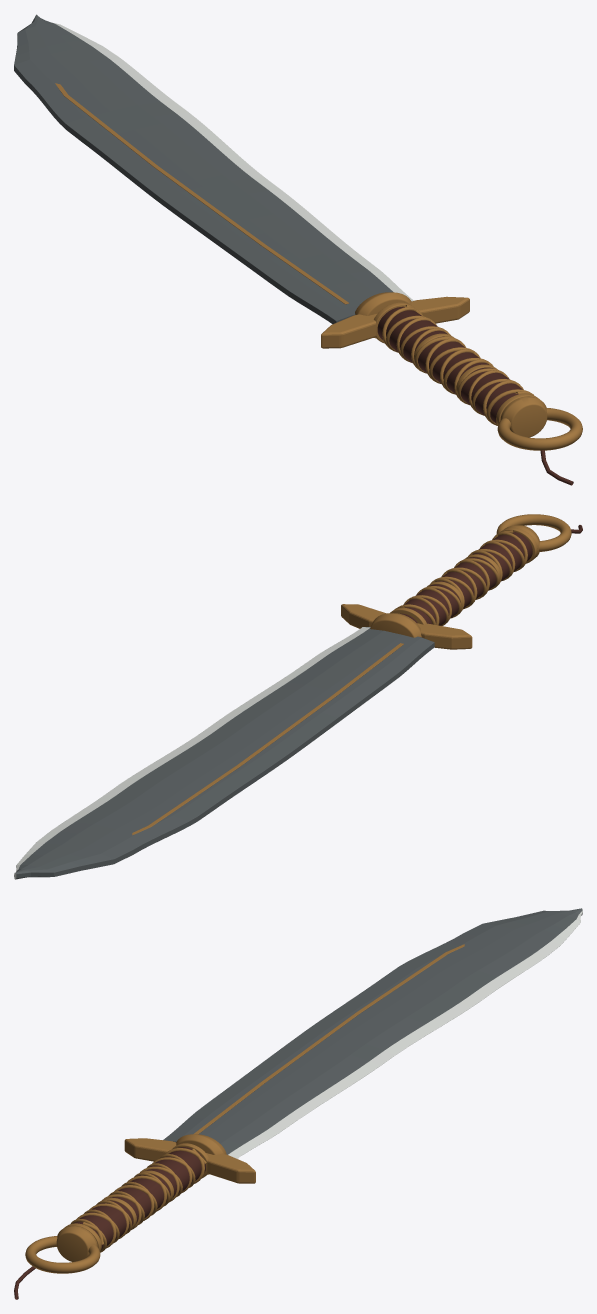
Rendered from zhanma_dao.glb.
The picture shows the model from 3 angles, top to bottom: view 1: azimuth 30°, elevation 25°; view 2: azimuth 150°, elevation 25°; view 3: azimuth 330°, elevation 25°; orthographic projection. The views are drawn at different scales.
Visible parts, largest first — view 1: ZhanmaDaoBlade, ZhanmaGripCore, ZhanmaWingGuard, ZhanmaWrapA, ZhanmaWrapB, ZhanmaRingPommel, ZhanmaFullerLine, ZhanmaPommelNeck, ZhanmaBladeCollar; view 2: ZhanmaDaoBlade, ZhanmaGripCore, ZhanmaWingGuard, ZhanmaWrapB, ZhanmaWrapA, ZhanmaFullerLine, ZhanmaRingPommel, ZhanmaBladeCollar; view 3: ZhanmaDaoBlade, ZhanmaGripCore, ZhanmaWingGuard, ZhanmaWrapB, ZhanmaWrapA, ZhanmaRingPommel, ZhanmaFullerLine, ZhanmaPommelNeck, ZhanmaBladeCollar.
Boxes of the visible parts, x1,y1,x2,y2 form: ZhanmaDaoBlade: [14, 14, 413, 324]; ZhanmaGripCore: [377, 306, 522, 423]; ZhanmaWingGuard: [321, 296, 469, 348]; ZhanmaWrapA: [386, 305, 533, 423]; ZhanmaWrapB: [382, 307, 531, 425]; ZhanmaRingPommel: [497, 408, 582, 450]; ZhanmaFullerLine: [55, 83, 349, 304]; ZhanmaPommelNeck: [500, 396, 547, 437]; ZhanmaBladeCollar: [355, 292, 411, 338]; ZhanmaDaoBlade: [14, 627, 434, 879]; ZhanmaGripCore: [400, 532, 532, 625]; ZhanmaWingGuard: [341, 604, 472, 649]; ZhanmaWrapB: [395, 530, 524, 625]; ZhanmaWrapA: [394, 532, 527, 625]; ZhanmaFullerLine: [132, 643, 403, 835]; ZhanmaRingPommel: [496, 514, 571, 551]; ZhanmaBladeCollar: [370, 613, 421, 637]; ZhanmaDaoBlade: [163, 908, 582, 1158]; ZhanmaGripCore: [74, 1147, 205, 1249]; ZhanmaWingGuard: [124, 1138, 255, 1183]; ZhanmaWrapB: [76, 1148, 206, 1252]; ZhanmaWrapA: [70, 1148, 204, 1248]; ZhanmaRingPommel: [25, 1236, 100, 1273]; ZhanmaFullerLine: [193, 944, 464, 1134]; ZhanmaPommelNeck: [56, 1226, 97, 1261]; ZhanmaBladeCollar: [176, 1134, 226, 1174].
Bounding box in the file's own units: 0.2071 × 0.0593 × 1.42.
